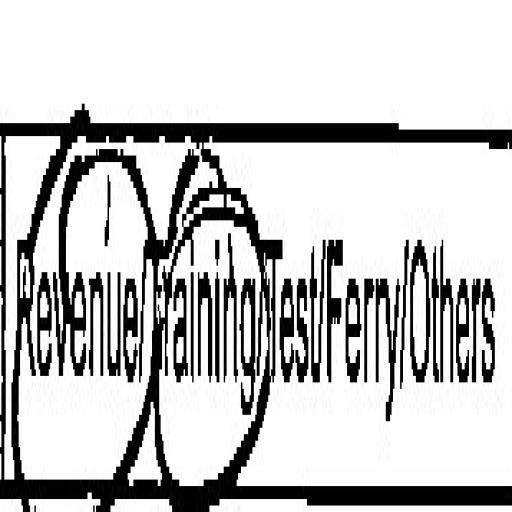check: (0, 71, 141, 512), (145, 65, 263, 512)
